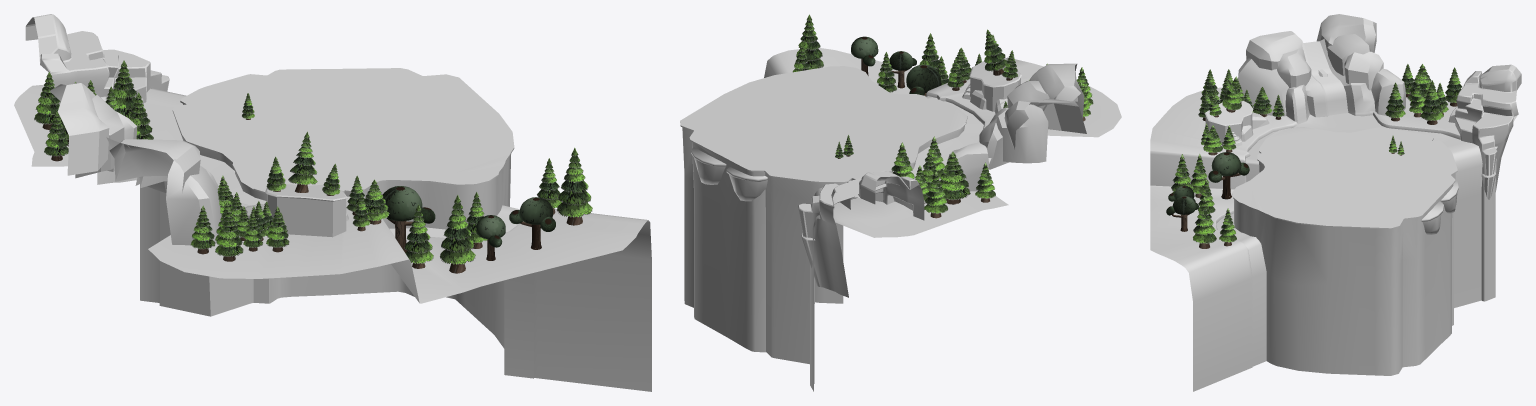
File: Sepenta scene.fbx
3 renders of one model, left to right at view 1: azimuth 30°, elevation 25°; view 2: azimuth 150°, elevation 25°; view 3: azimuth 270°, elevation 25°, orthographic. The views are drawn at different scales.
Visible parts, largest first — view 1: Circle, Circle.019, Circle.001, derakht gerd, derakht gerd.001, derakht gerd.002; view 2: Circle, Circle.019, Circle.001, derakht gerd, derakht gerd.001, derakht gerd.002; view 3: Circle, Circle.019, Circle.001, derakht gerd, derakht gerd.001.
Boxes of the visible parts, x1=… form: Circle: x1=14, y1=68, x2=651, y2=391; Circle.019: x1=34, y1=60, x2=592, y2=273; Circle.001: x1=25, y1=14, x2=169, y2=185; derakht gerd: x1=382, y1=186, x2=435, y2=252; derakht gerd.001: x1=509, y1=197, x2=555, y2=249; derakht gerd.002: x1=476, y1=215, x2=505, y2=260; Circle: x1=680, y1=48, x2=1121, y2=391; Circle.019: x1=792, y1=14, x2=1093, y2=218; Circle.001: x1=798, y1=170, x2=924, y2=297; derakht gerd: x1=906, y1=64, x2=941, y2=96; derakht gerd.001: x1=851, y1=36, x2=878, y2=75; derakht gerd.002: x1=889, y1=51, x2=916, y2=88; Circle: x1=1150, y1=14, x2=1517, y2=391; Circle.019: x1=1171, y1=64, x2=1462, y2=248; Circle.001: x1=1448, y1=64, x2=1521, y2=199; derakht gerd: x1=1208, y1=152, x2=1249, y2=199; derakht gerd.001: x1=1166, y1=196, x2=1198, y2=231.
Bounding box in the file's own units: 532 × 338 × 510.
